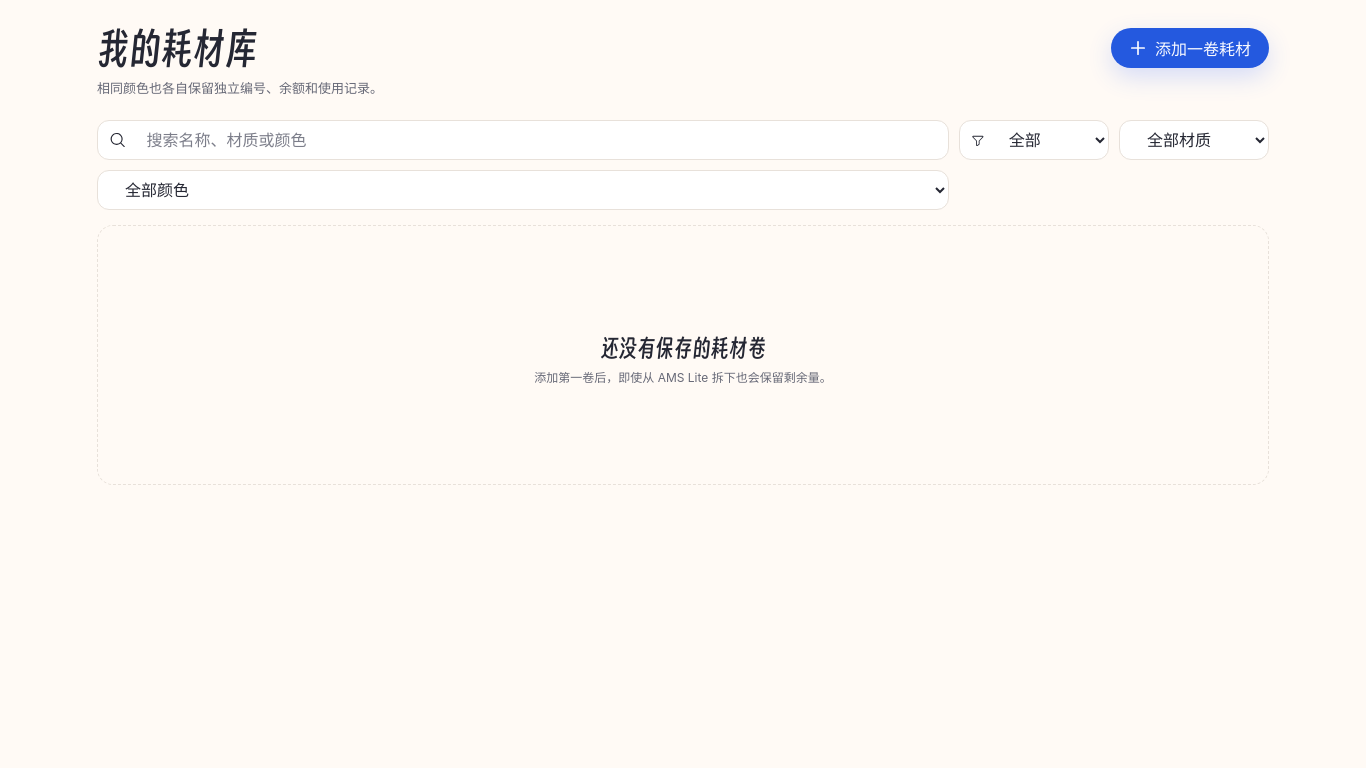
restores focus to the add button after closing with close button
The width and height of the screenshot is (1366, 768).
Click the button "添加一卷耗材". click: (1190, 48)
box: [1111,28,1269,68]
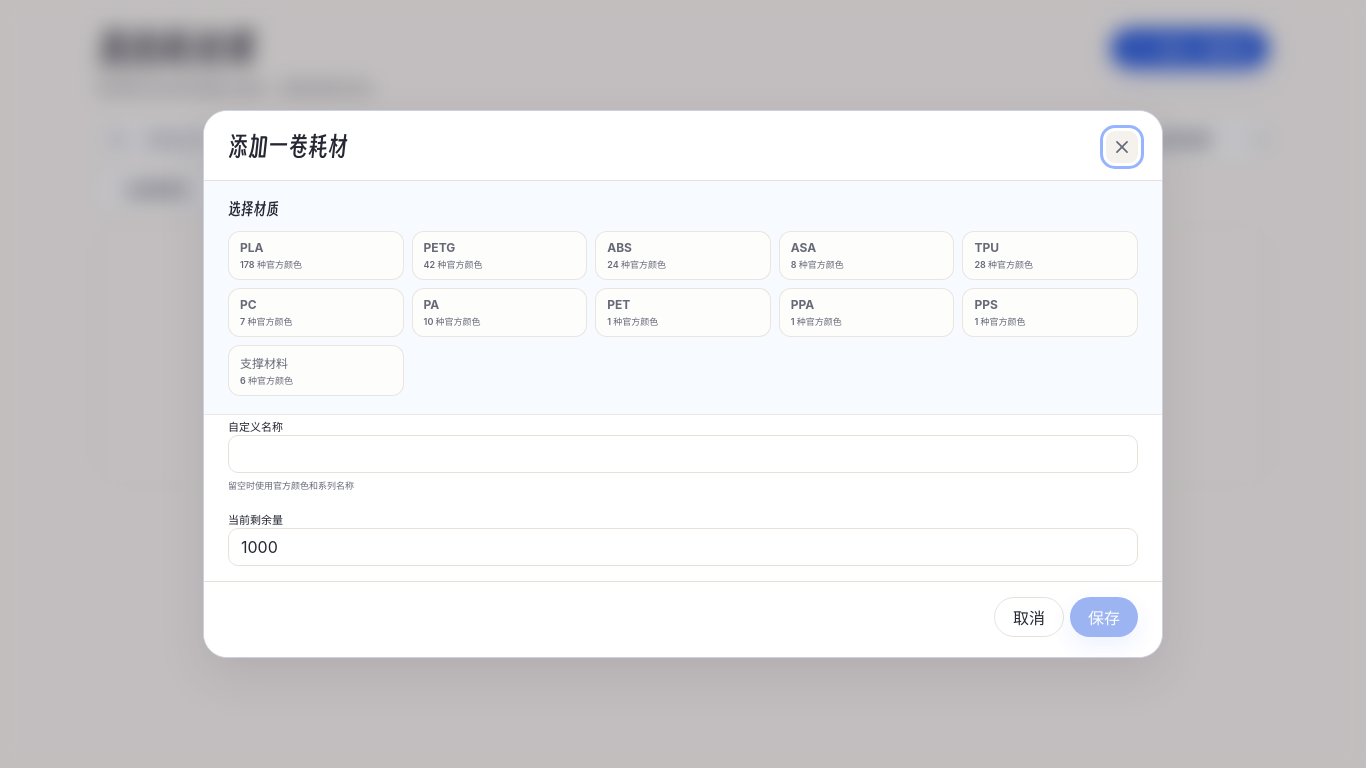
Click the button named "关闭". click: (1122, 147)
box: [1106,131,1138,163]
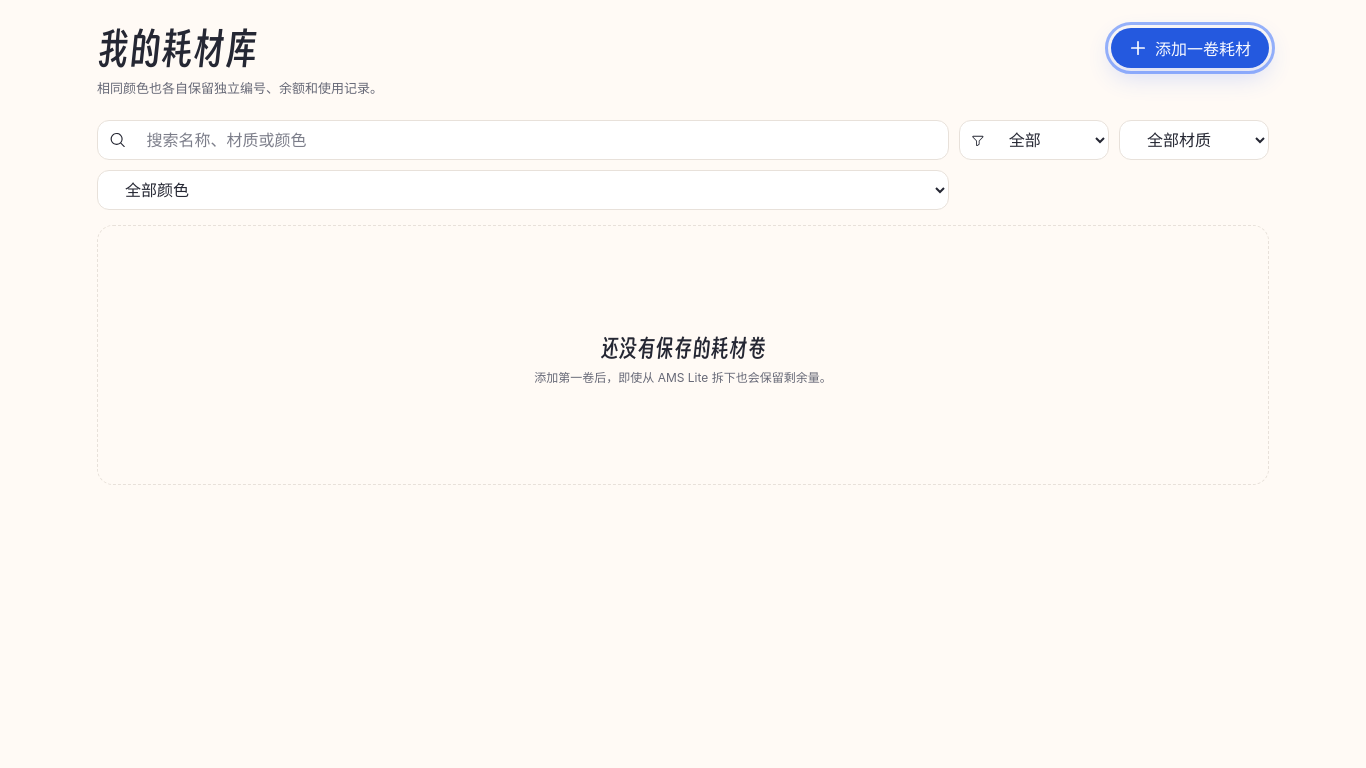
Now the dialog is gone
